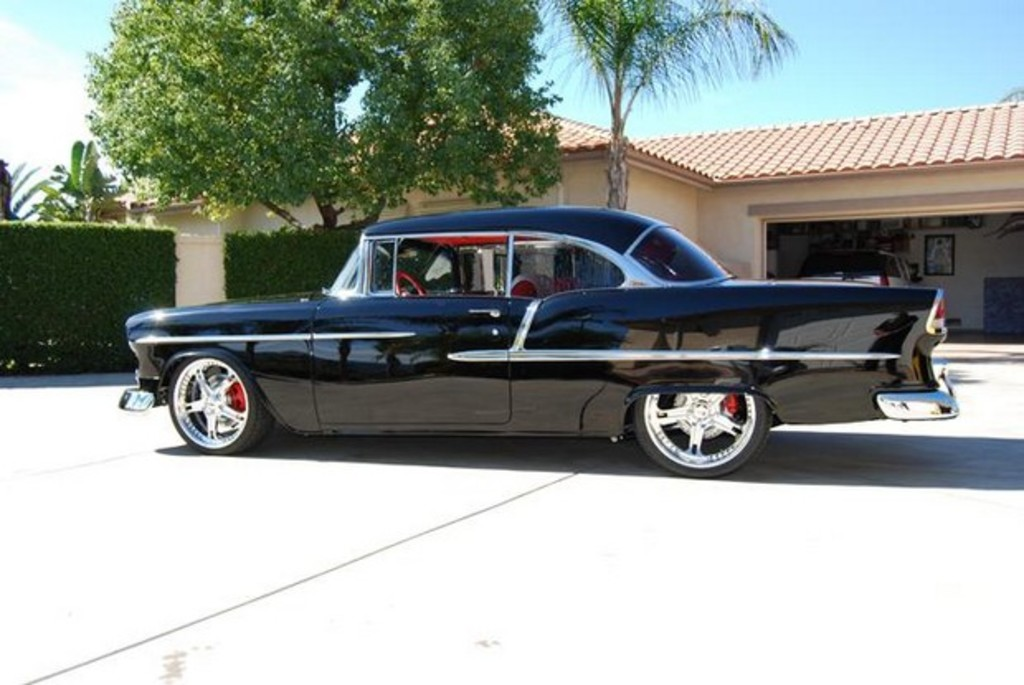cars: (119, 197, 959, 481), (792, 252, 916, 290)
